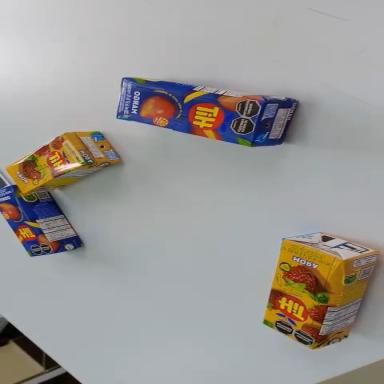HIT-MANGO: (115, 75, 300, 152), (0, 167, 85, 274)
HIT-MORA: (254, 222, 381, 360), (3, 117, 122, 203)
cara_F: (115, 78, 263, 148), (252, 238, 344, 350), (3, 130, 86, 196), (0, 183, 55, 266)
